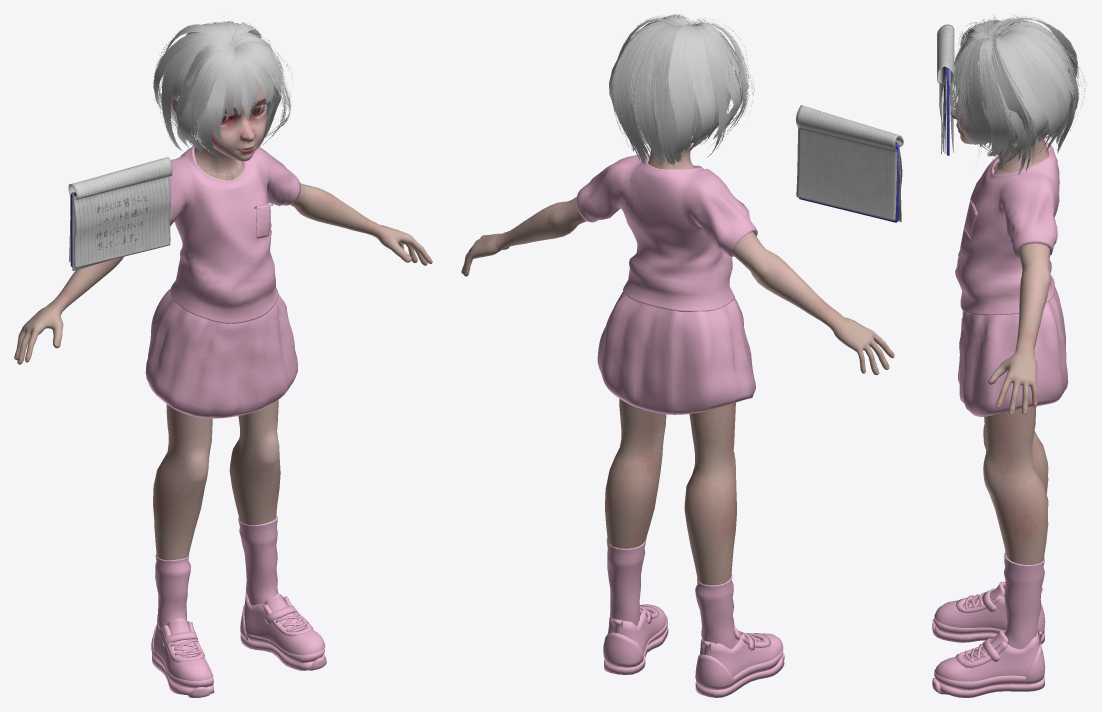
File: uploads_files_3905296_ShoukoYoung.fbx
3 renders of one model, left to right at view 1: azimuth 30°, elevation 25°; view 2: azimuth 150°, elevation 25°; view 3: azimuth 270°, elevation 25°, orthographic. The views are drawn at different scales.
Visible parts, largest first — view 1: ShoukoYoung, Sweater, Skirt, Plane.012, NoteBookpaper, Socks, ShoeMain, ToeCap, Sole, BottomLaces, ShoeTounge; view 2: ShoukoYoung, Sweater, Plane.012, Skirt, NoteBookpaper, Socks, ShoeMain, FeetCap, Sole; view 3: Plane.012, ShoukoYoung, Sweater, Skirt, ShoeMain, Socks, NoteBookpaper, Sole, ToeCap, BottomLaces, FeetCap, ShoeTounge (+3 smaller).
Boxes of the visible parts, x1,y1,x2,y2 form: ShoukoYoung: (14, 77, 432, 560); Sweater: (169, 146, 300, 323); Skirt: (145, 288, 297, 418); Plane.012: (153, 20, 292, 159); NoteBookpaper: (68, 157, 172, 270); Socks: (155, 515, 278, 627); ShoeMain: (153, 592, 324, 680); ToeCap: (153, 634, 325, 688); Sole: (152, 634, 326, 695); BottomLaces: (162, 596, 313, 662); ShoeTounge: (166, 594, 305, 656); ShoukoYoung: (461, 127, 894, 585); Sweater: (576, 155, 757, 311); Plane.012: (609, 14, 754, 166); Skirt: (597, 291, 755, 414); NoteBookpaper: (796, 105, 903, 222); Socks: (606, 538, 738, 648); ShoeMain: (607, 604, 782, 677); FeetCap: (603, 632, 733, 689); Sole: (604, 625, 784, 697); Plane.012: (951, 15, 1085, 174); ShoukoYoung: (951, 105, 1051, 564); Sweater: (955, 141, 1059, 314); Skirt: (958, 286, 1068, 416); ShoeMain: (935, 595, 1039, 681); Socks: (1004, 552, 1044, 649); NoteBookpaper: (937, 24, 954, 155); Sole: (933, 626, 1044, 697); ToeCap: (934, 614, 1026, 690); BottomLaces: (956, 589, 1007, 667); FeetCap: (1023, 602, 1045, 684); ShoeTounge: (963, 581, 1008, 659).
Bounding box in the file's own units: 92.18 × 136 × 29.88.
